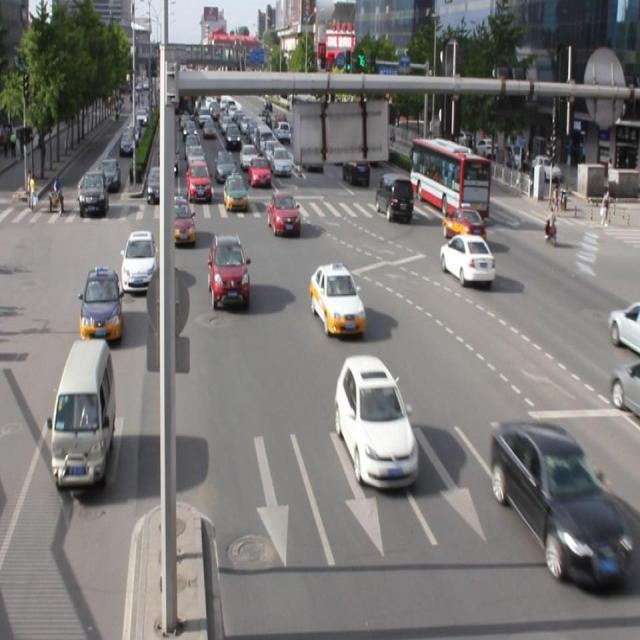car: (490, 416, 629, 585), (335, 355, 417, 485), (308, 261, 364, 335), (208, 231, 251, 309), (438, 231, 494, 286), (80, 267, 121, 341), (122, 228, 158, 292), (440, 205, 486, 245), (268, 190, 301, 236), (168, 196, 196, 244)
truck: (52, 336, 116, 489)
